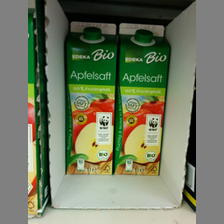juice: (114, 22, 170, 177), (65, 21, 119, 177)
